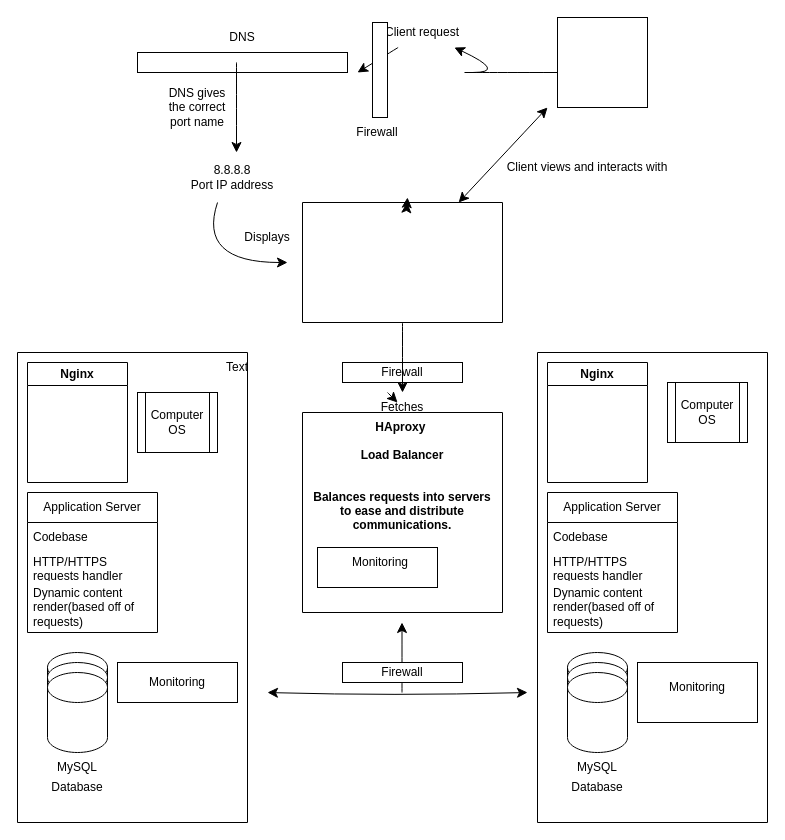
This 785x840 diagram has some shape labels left out. The shapes that lost their labels are listed below. From the top down, each one's centre as x and y in pixels, then its label:
the point at 242,62: www.foobar.com
the point at 602,62: Client
the point at 402,262: Web API that communicates with the application server.
